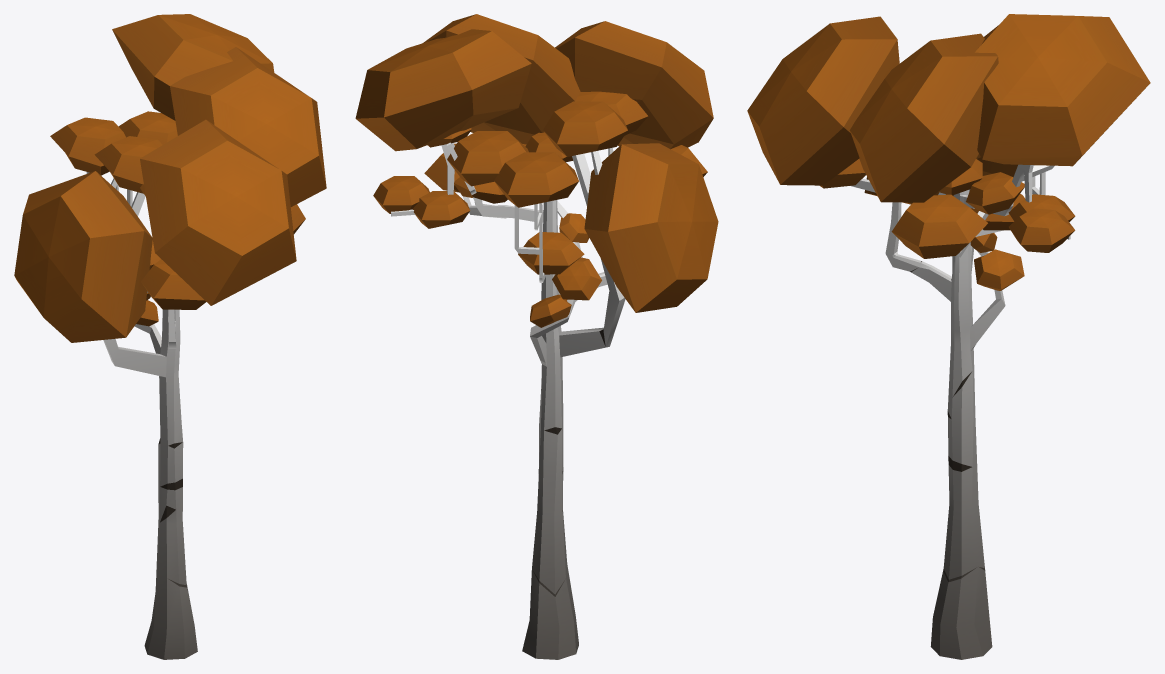
File: arbol2.fbx
3 views of the same model, side by side, from view 1: azimuth 30°, elevation 25°; view 2: azimuth 150°, elevation 25°; view 3: azimuth 270°, elevation 25° (orthographic). The views are drawn at different scales.
Parts seen in each view (by area): view 1: arbol2; view 2: arbol2; view 3: arbol2.
Boxes of the visible parts, x1,y1,x2,y2 form: arbol2: (14,14,326,659); arbol2: (355,14,718,659); arbol2: (747,14,1150,659).
Size of the model in its own units: 1355 by 2751 by 1542.
